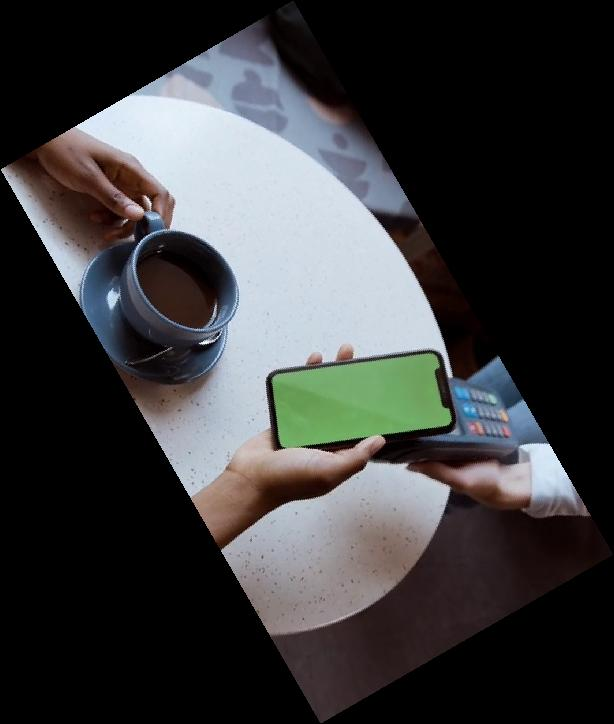phone: (261, 345, 456, 453)
